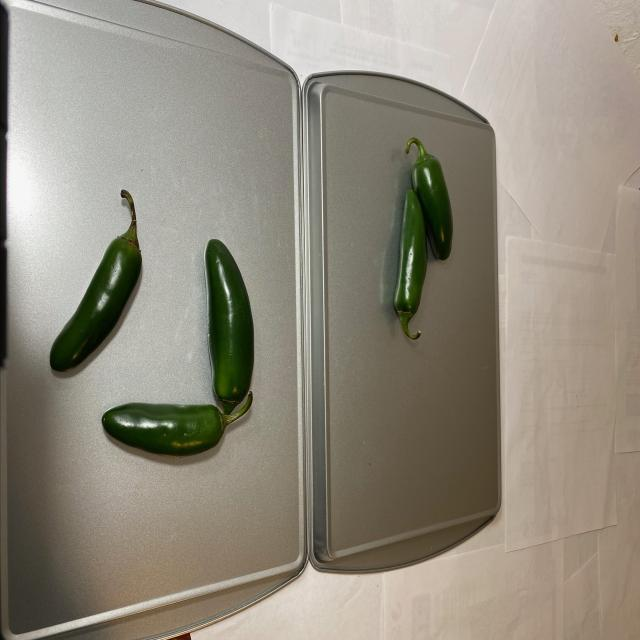chilli: (43, 178, 258, 491), (382, 130, 456, 353)
